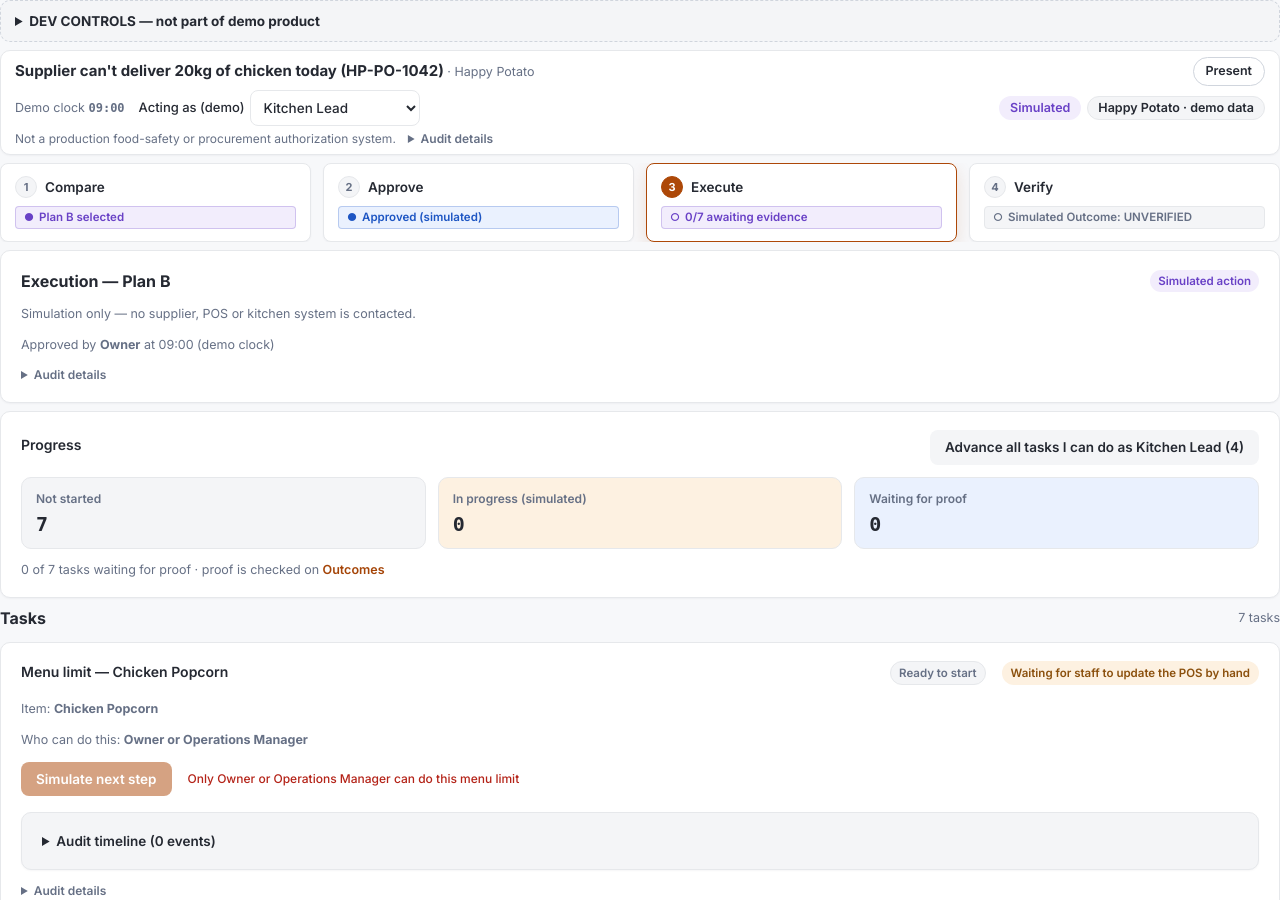
Test: Bulk advance on Execution › requires a reason, respects the role, and reports what was skipped
The width and height of the screenshot is (1280, 900).
Click the button "Advance all tasks I can do as Kitchen Lead (4)". click: (1094, 448)
box: x1=930 y1=430 x2=1259 y2=465
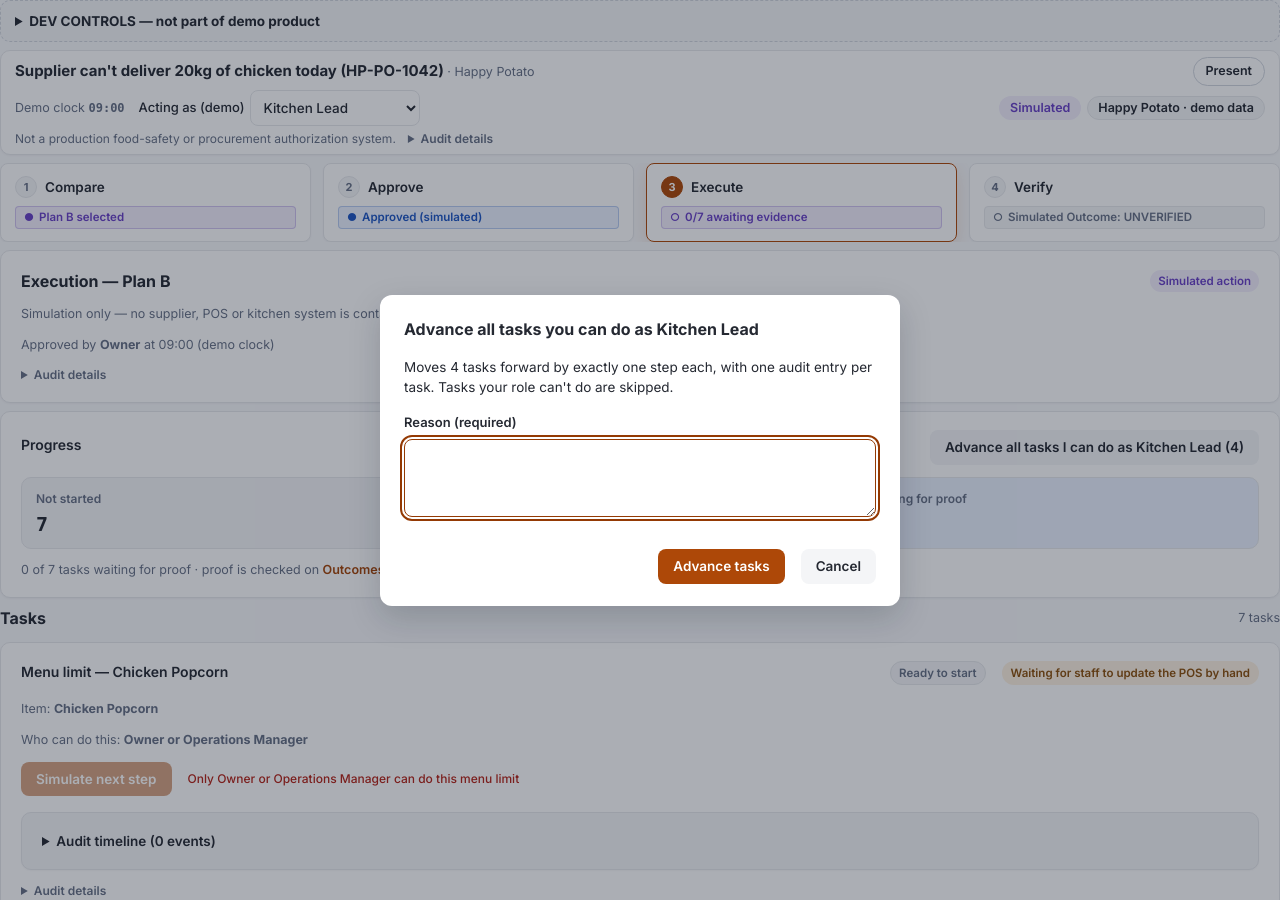
Click the button "Advance tasks". click: (721, 566)
box: x1=658 y1=549 x2=785 y2=584
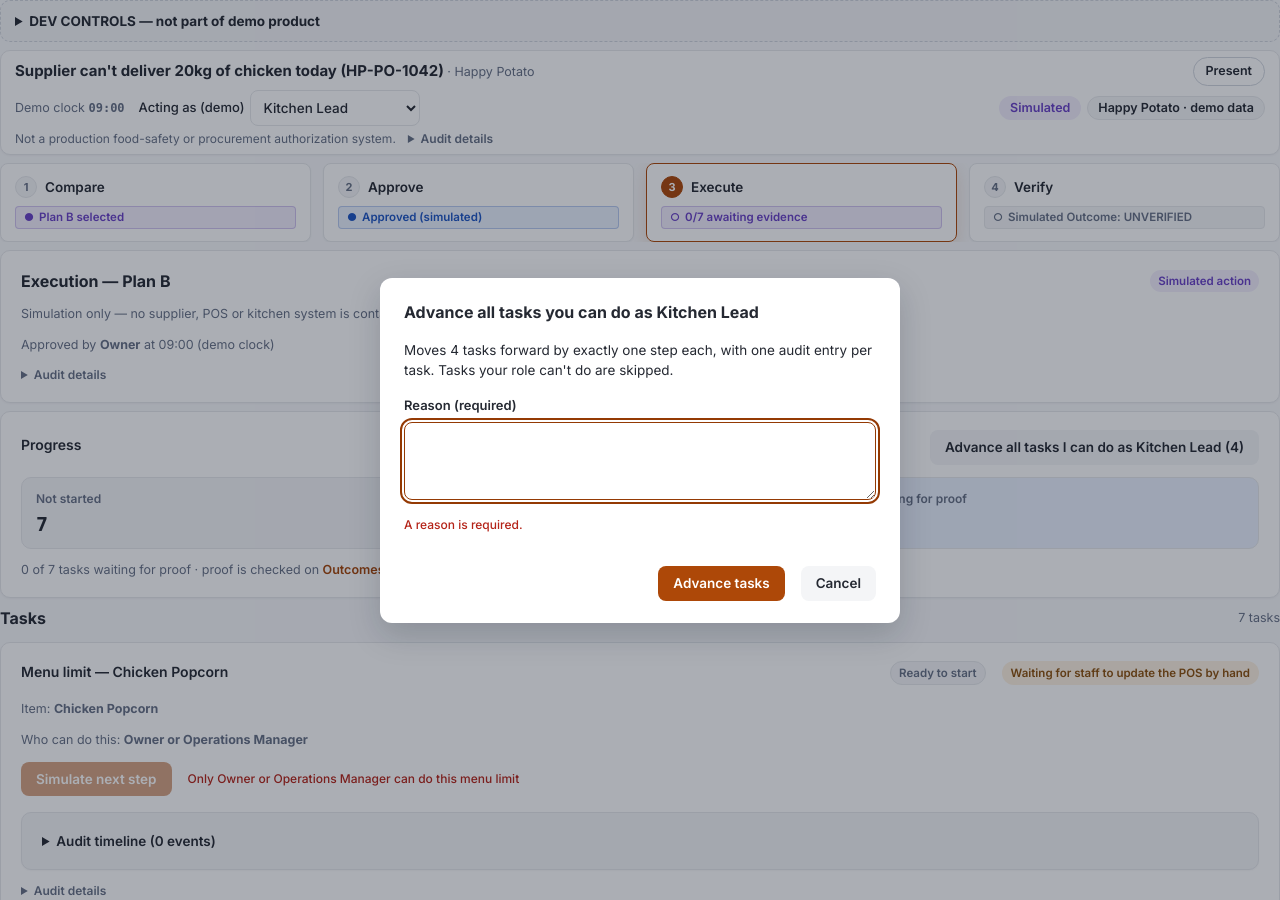
Now the message reads "A reason is required.", box x1=404 y1=517 x2=522 y2=532
Type "Kitchen started all prep batches" into the text box. click: (640, 461)
box: x1=404 y1=422 x2=876 y2=500
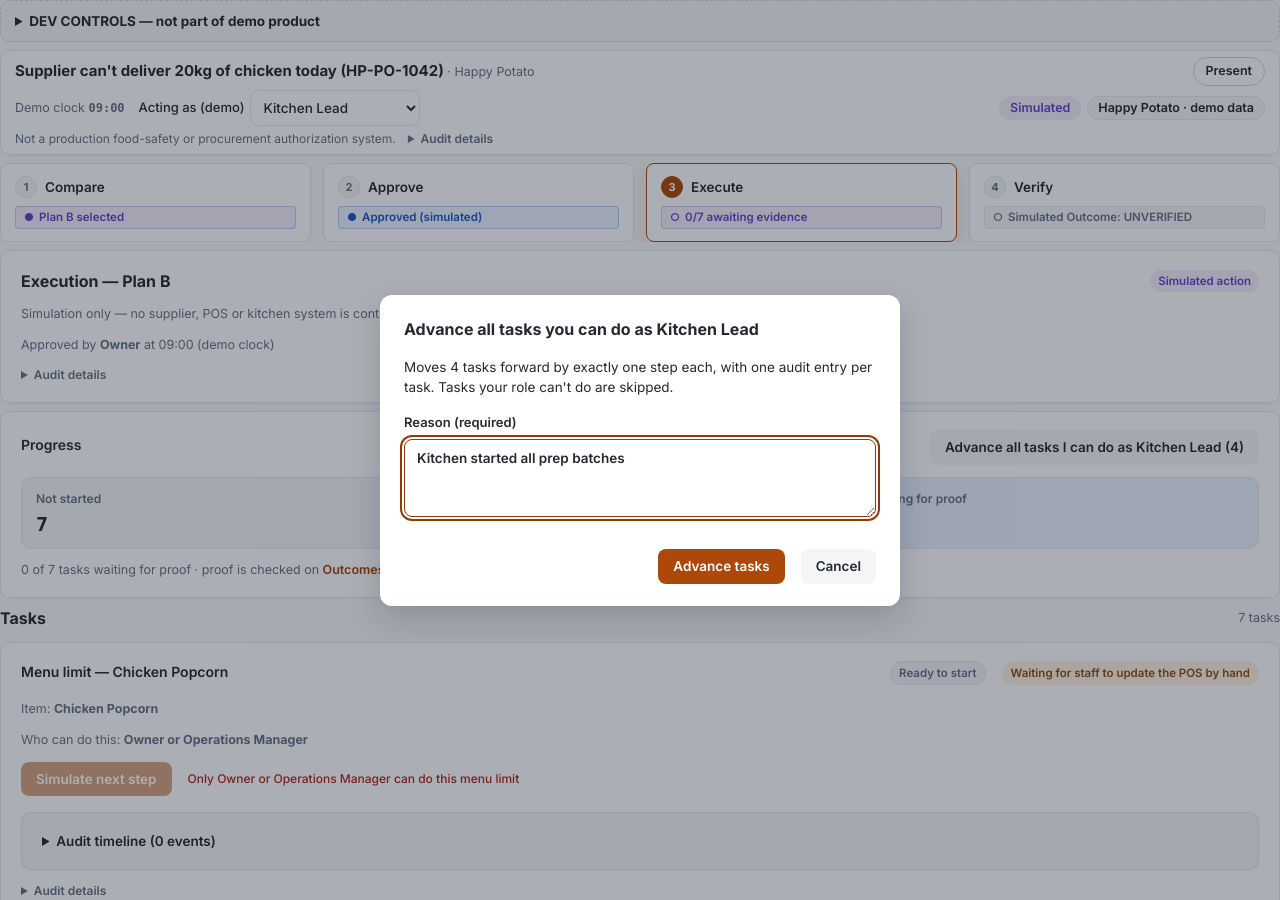
Click the button "Advance tasks". click: (721, 566)
box: x1=658 y1=549 x2=785 y2=584
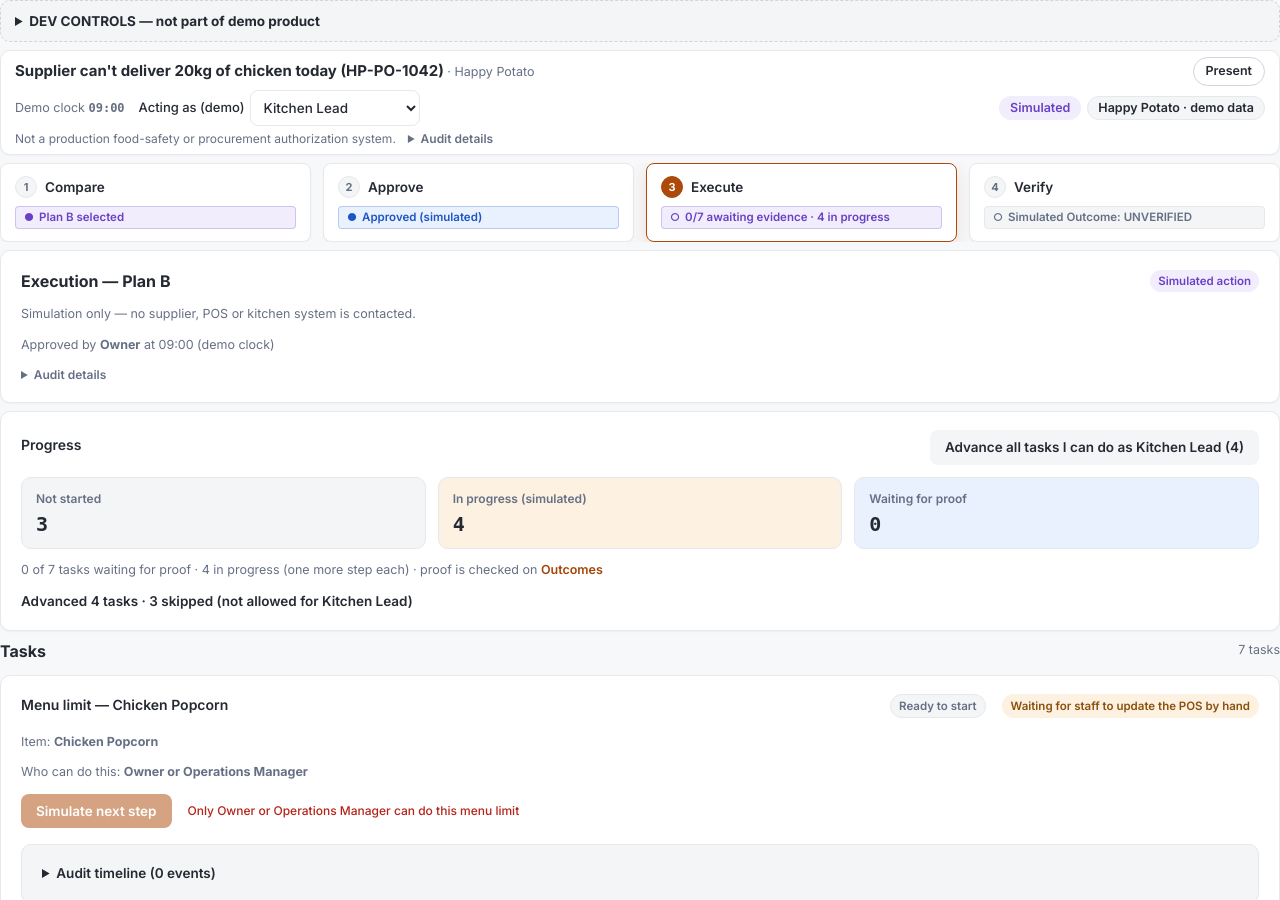
Now the text with test id "p5-advance-summary" reads "Advanced 4 tasks · 3 skipped (not allowed for Kitchen Lead)", box x1=21 y1=593 x2=413 y2=609
